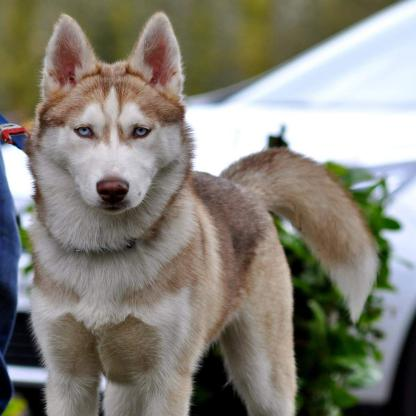husky: (27, 12, 378, 416)
